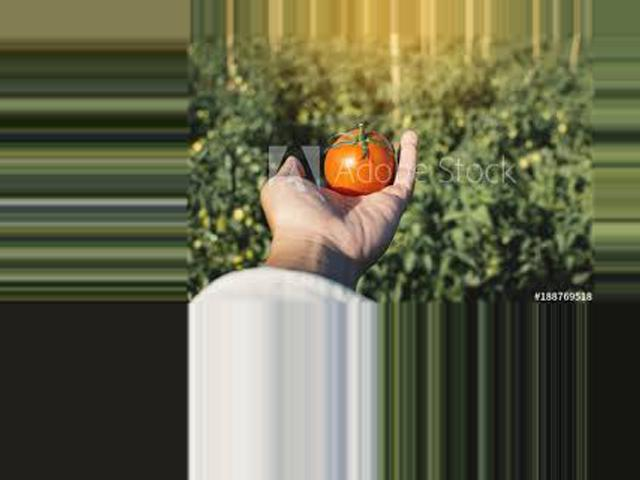tomato: (326, 130, 396, 193)
